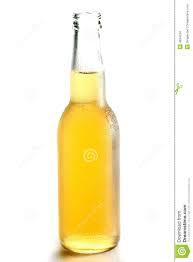Glass bottle: (52, 5, 127, 261)
